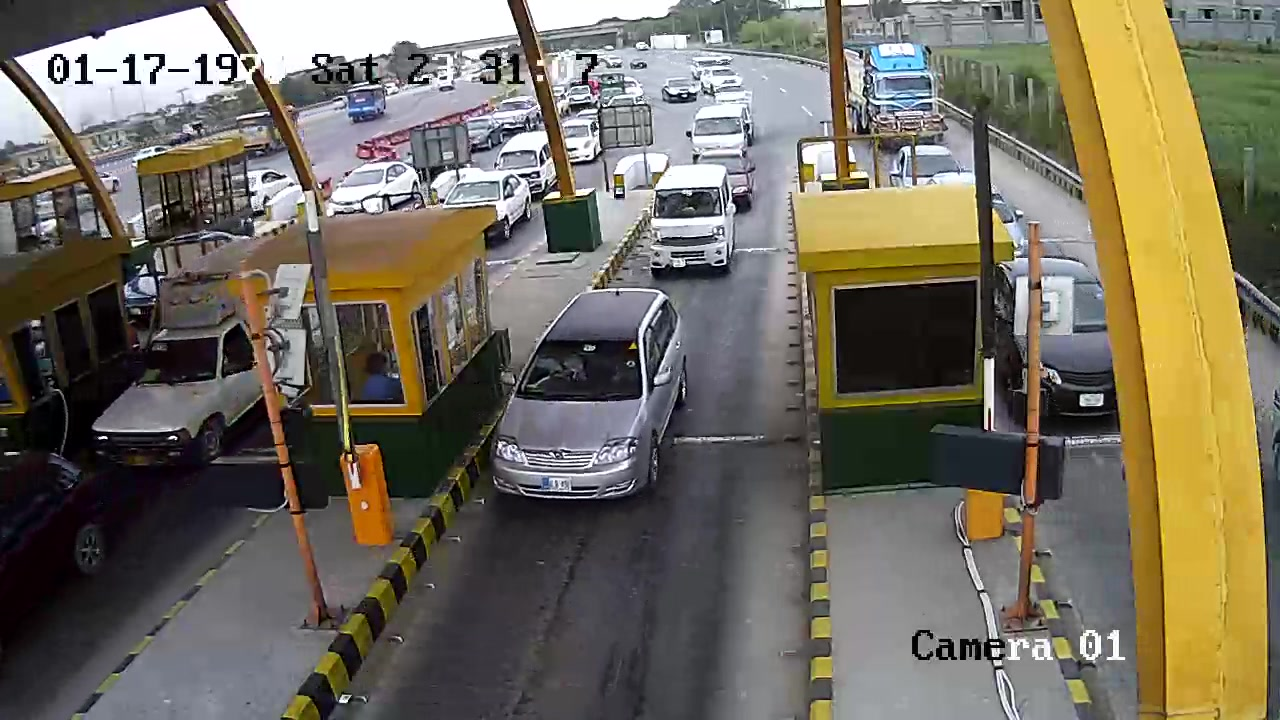F1: (480, 289, 707, 512)
